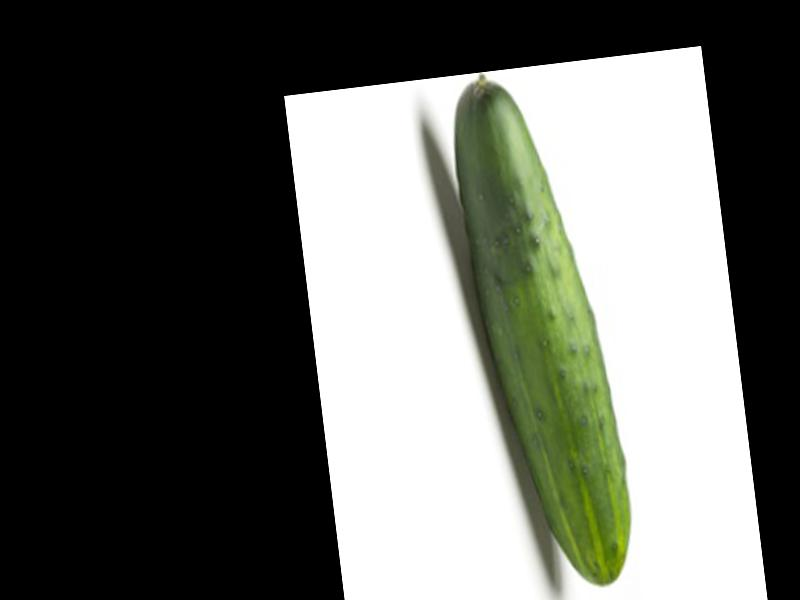Cucumber: (442, 62, 639, 596)
